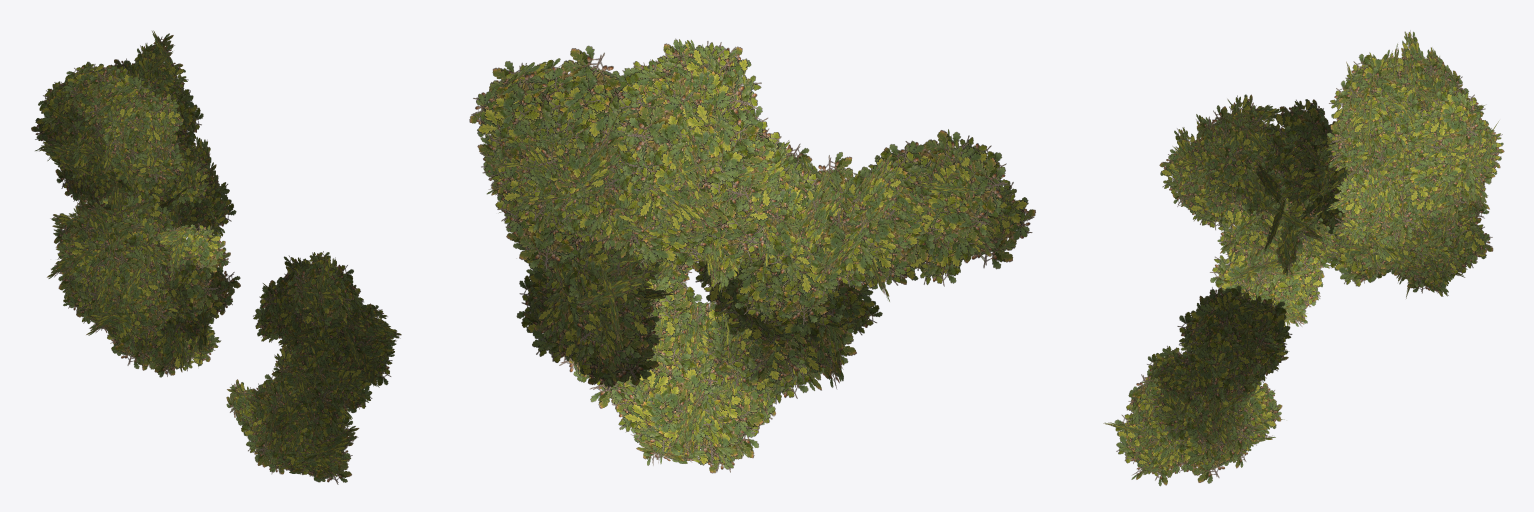
File: oak2_leaves.glb
The picture shows the model from 3 angles, left to right: view 1: azimuth 30°, elevation 25°; view 2: azimuth 150°, elevation 25°; view 3: azimuth 270°, elevation 25°; orthographic projection. The views are drawn at different scales.
Parts seen in each view (by area): view 1: leaves; view 2: leaves; view 3: leaves.
Part boxes in pixels (bbox=[...]): leaves: bbox=[31, 30, 401, 484]; leaves: bbox=[469, 38, 1035, 473]; leaves: bbox=[1103, 30, 1504, 486].
Bounding box in the file's own units: 5.25 × 5.93 × 5.61.
1 material, 1 textured.
